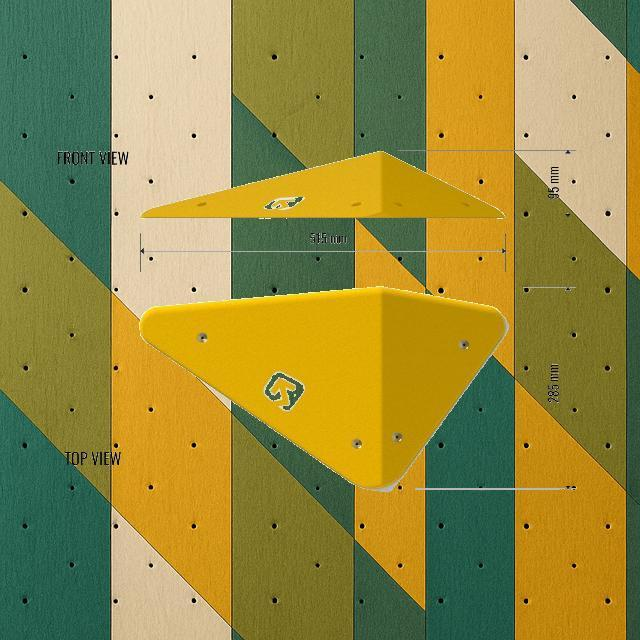Volume: (138, 286, 508, 490), (138, 150, 506, 220)
